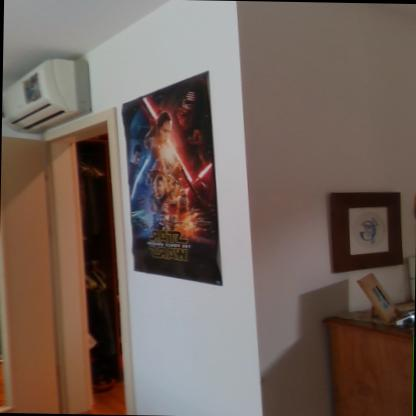open: (0, 97, 124, 414)
